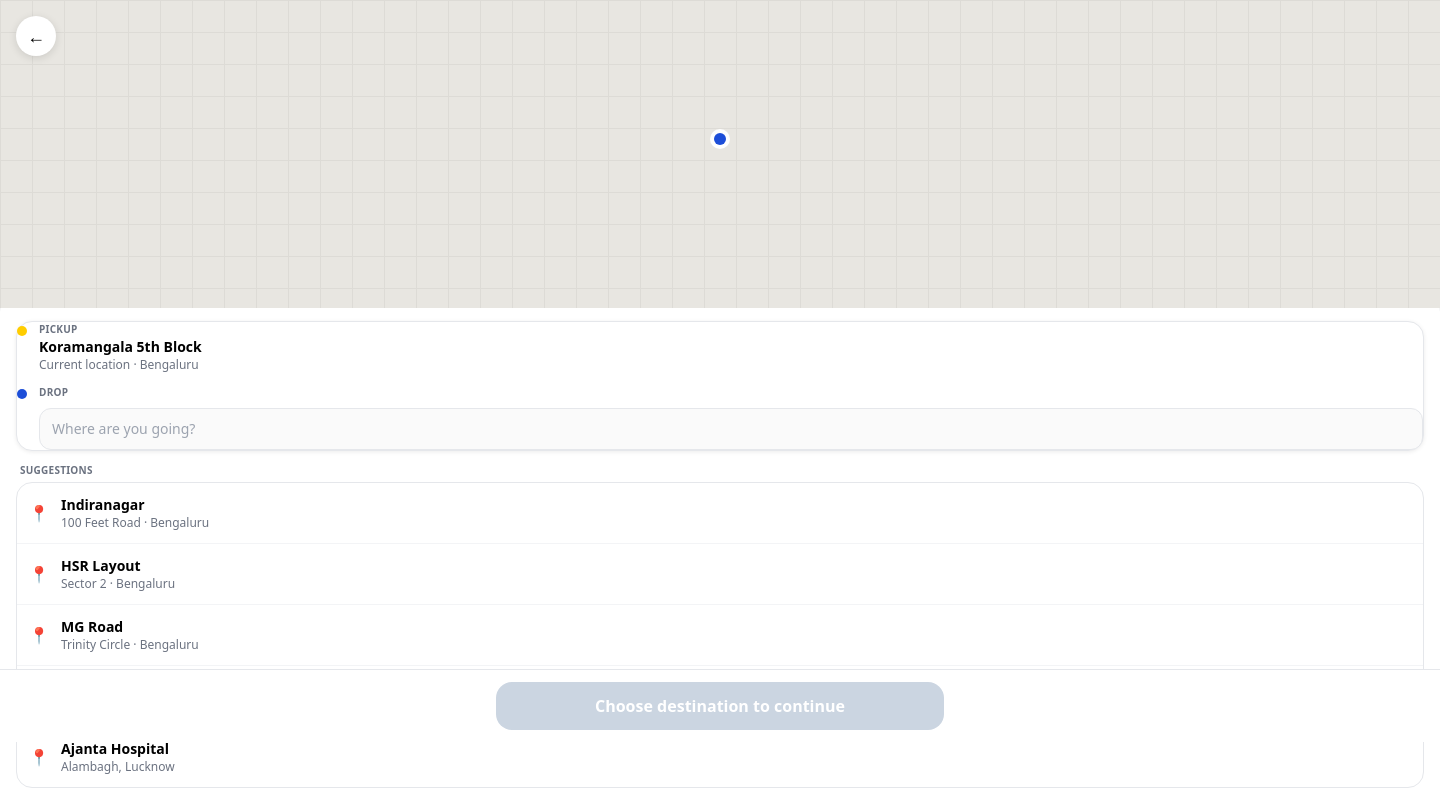
Test case: booking destination flow › filters suggestions while typing
Type "hsr" into the field with test id "destination-search-input" at (731, 429), box x1=39 y1=408 x2=1423 y2=450
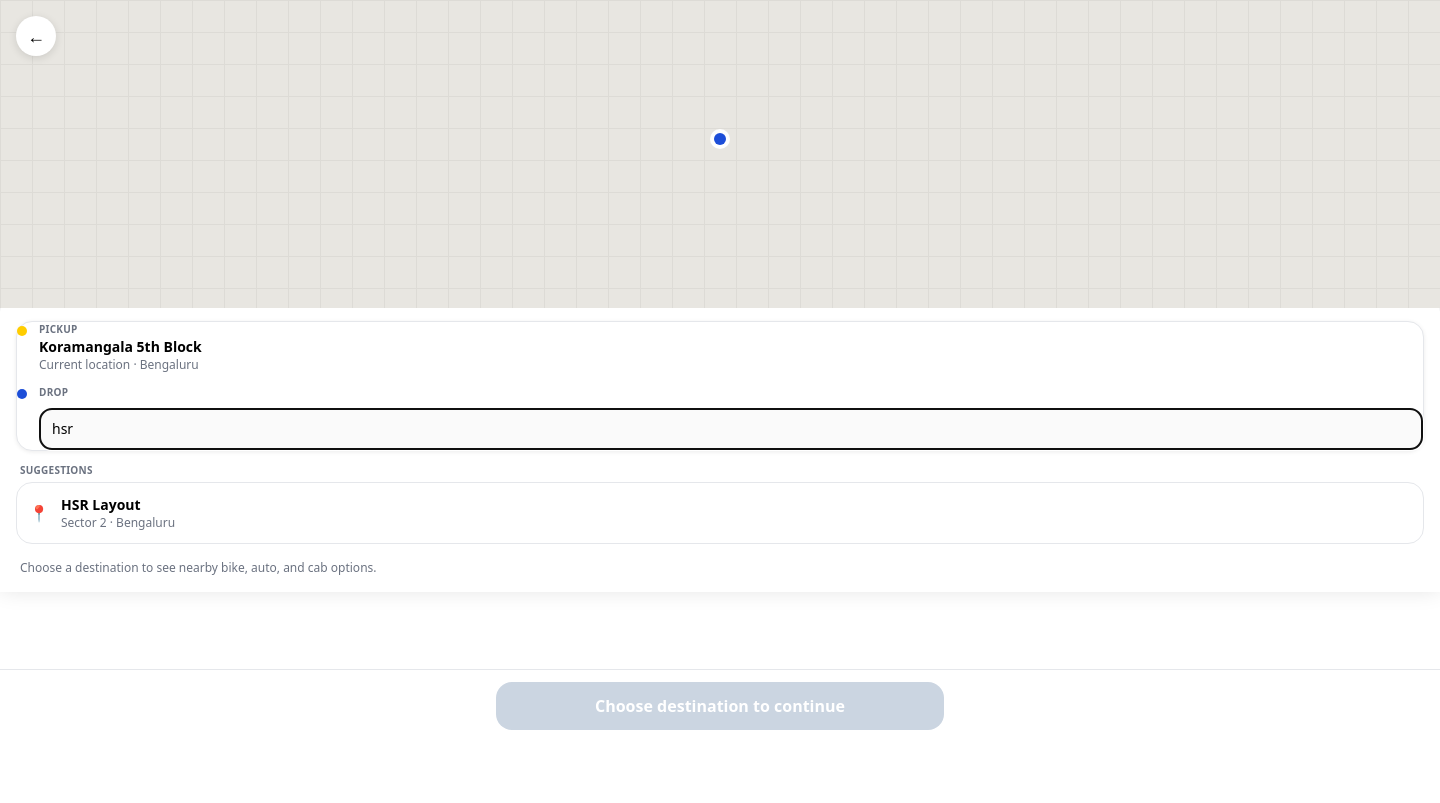
Expected: the button with test id "destination-suggestion-hsr-layout" is shown, x1=17 y1=483 x2=1423 y2=543
Now the button with test id "destination-suggestion-indiranagar" is gone
